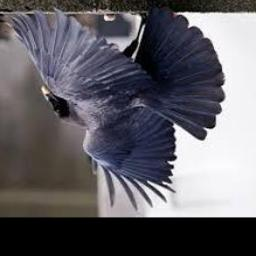Crow: (0, 4, 224, 208)
